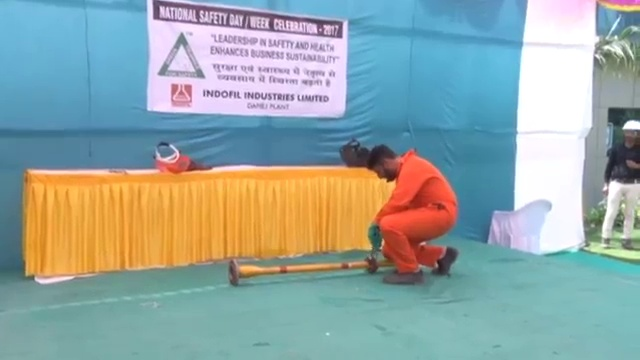helmet: (622, 118, 640, 131)
helmet_off: (368, 145, 400, 182)
helmet_on: (621, 116, 640, 144)
person: (358, 142, 460, 285), (600, 119, 640, 254)
